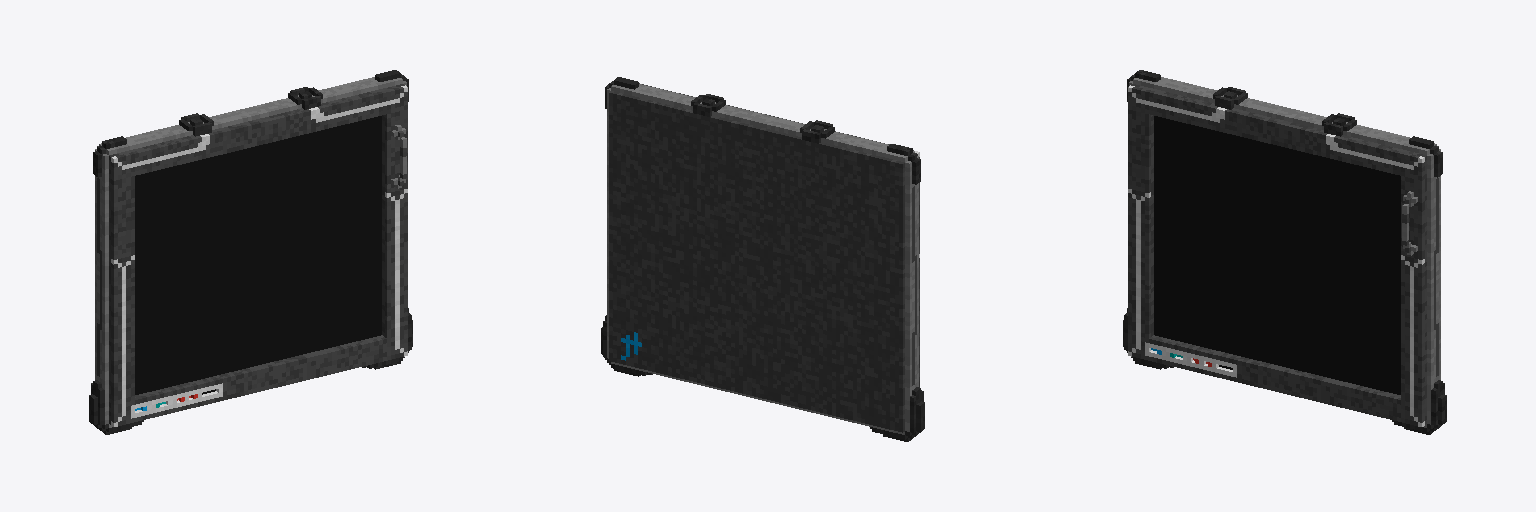
3 views of the same model, side by side, from view 1: azimuth 30°, elevation 25°; view 2: azimuth 150°, elevation 25°; view 3: azimuth 330°, elevation 25° (orthographic).
Visible parts, largest first — view 1: object 1; view 2: object 1; view 3: object 1.
Part boxes in pixels (bbox=[...]): object 1: bbox=[89, 70, 412, 434]; object 1: bbox=[601, 77, 924, 441]; object 1: bbox=[1123, 70, 1446, 434].
Size of the model in its own units: 7.6 by 6.6 by 1.
Materials: 1 (1 with a texture image).